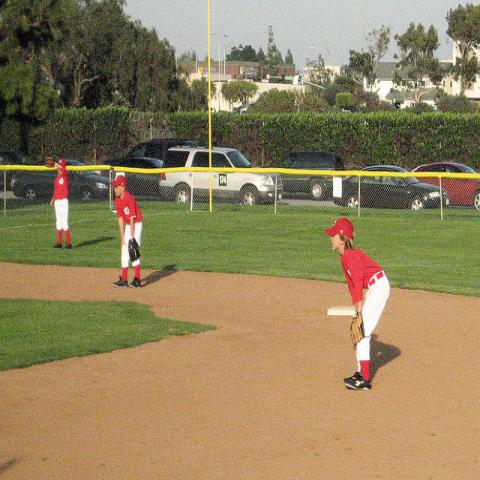car: (158, 146, 284, 206), (103, 139, 199, 202), (332, 163, 444, 206), (9, 160, 109, 202), (265, 153, 345, 200), (414, 164, 480, 212)
truck: (159, 145, 282, 204)
